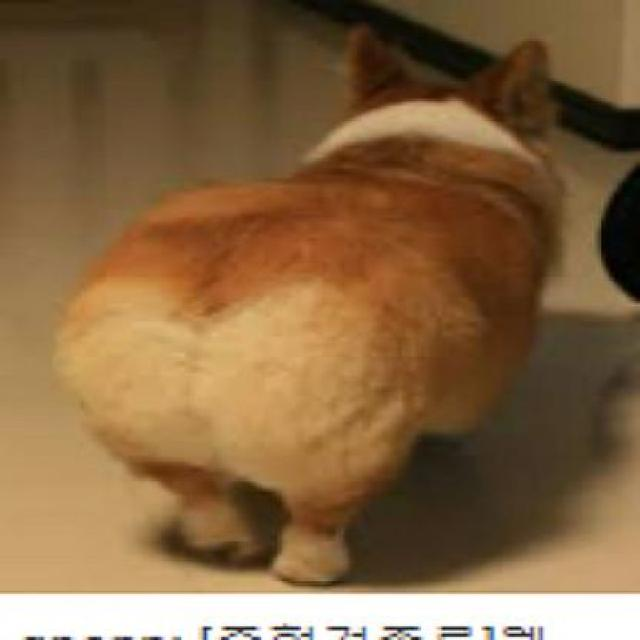Dog: (52, 20, 571, 586)
